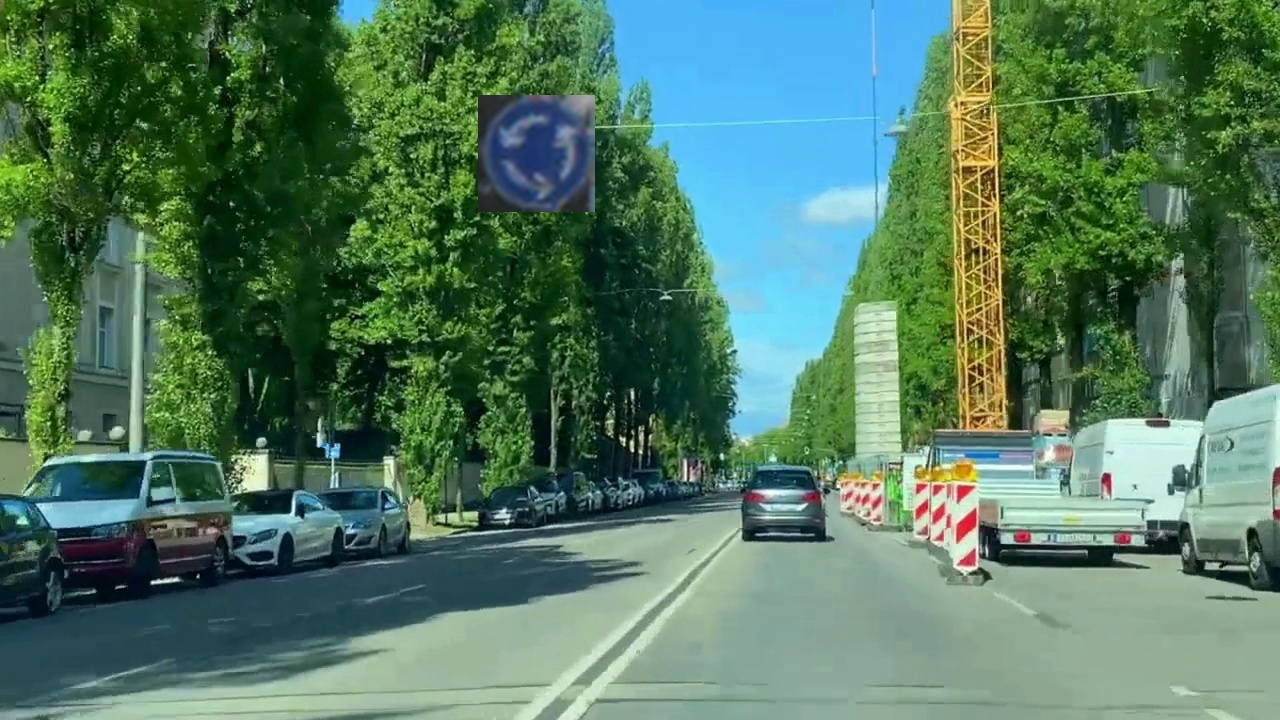Roundabout: (478, 95, 595, 212)
